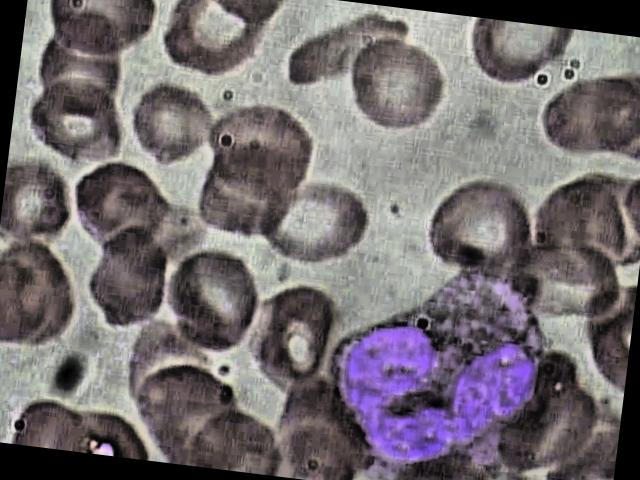RBC: (412, 170, 546, 286), (248, 169, 374, 271), (200, 100, 320, 206), (156, 240, 265, 356), (343, 30, 451, 144), (76, 222, 176, 340), (247, 282, 346, 399), (527, 65, 640, 166), (18, 76, 132, 172), (151, 0, 274, 83), (456, 16, 574, 96), (124, 74, 219, 172), (42, 0, 167, 63), (0, 155, 78, 254)
WBC: (317, 258, 574, 480)
